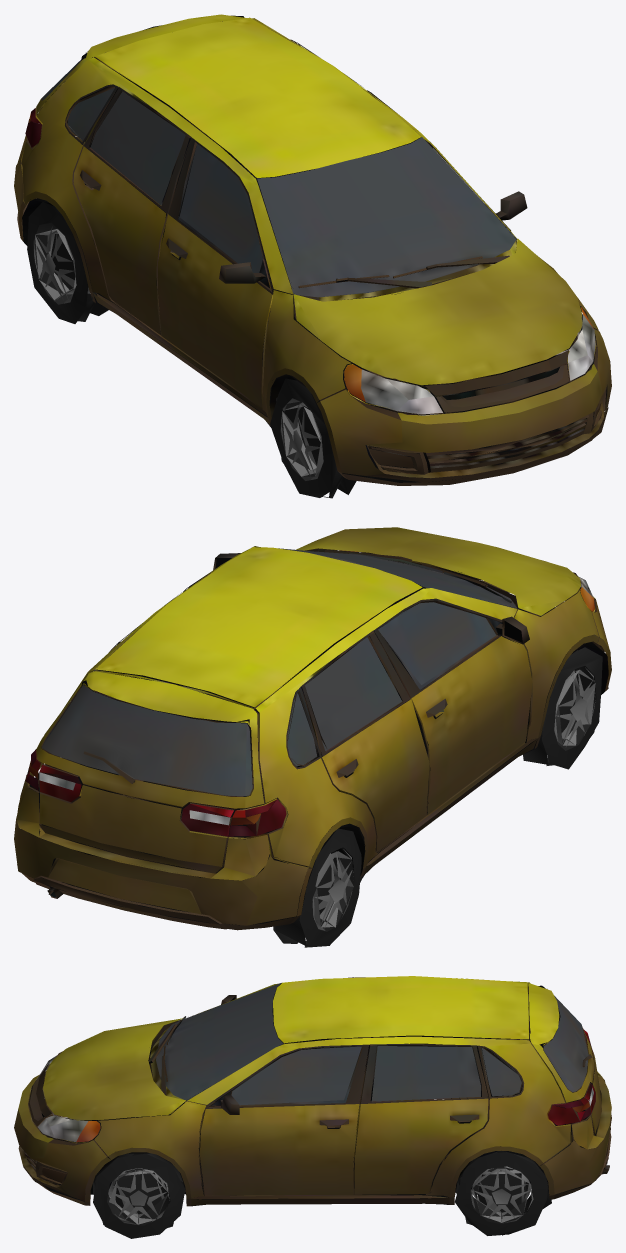
The model's file is pack-hatchback-L3.glb.
3 views of the same model, one above another, from view 1: azimuth 30°, elevation 25°; view 2: azimuth 150°, elevation 25°; view 3: azimuth 270°, elevation 25° (orthographic). The views are drawn at different scales.
Visible parts, largest first — view 1: body, wheel-back-left, wheel-front-left, wheel-front-left.1, wheel-back-left.1; view 2: body, wheel-back-left, wheel-front-left, wheel-front-left.1, wheel-back-left.1; view 3: body, wheel-front-right, wheel-back-right, wheel-back-right.1, wheel-front-right.1.
Part boxes in pixels (x1=…): body: x1=14, y1=14, x2=611, y2=485; wheel-back-left: x1=27, y1=202, x2=108, y2=323; wheel-front-left: x1=270, y1=378, x2=365, y2=498; wheel-front-left.1: x1=281, y1=398, x2=323, y2=479; wheel-back-left.1: x1=34, y1=226, x2=90, y2=303; body: x1=14, y1=527, x2=611, y2=930; wheel-back-left: x1=273, y1=828, x2=362, y2=947; wheel-front-left: x1=523, y1=647, x2=602, y2=769; wheel-front-left.1: x1=554, y1=667, x2=595, y2=746; wheel-back-left.1: x1=312, y1=849, x2=353, y2=930; body: x1=14, y1=976, x2=611, y2=1206; wheel-front-right: x1=93, y1=1153, x2=185, y2=1238; wheel-back-right: x1=455, y1=1151, x2=551, y2=1235; wheel-back-right.1: x1=471, y1=1166, x2=533, y2=1223; wheel-front-right.1: x1=108, y1=1168, x2=169, y2=1224.
Size of the model in its own units: 1.74 by 1.41 by 3.96.
Materials: 3 (1 with a texture image).
